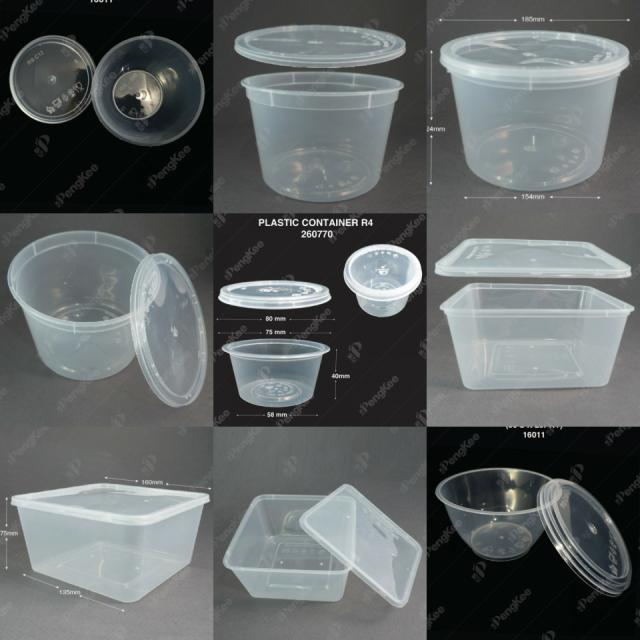Single-Use-Plastic: (440, 30, 629, 191), (11, 484, 210, 602), (8, 231, 160, 380), (241, 71, 404, 202), (440, 282, 634, 390), (300, 484, 422, 607), (224, 495, 356, 601), (432, 466, 565, 559), (92, 36, 204, 146), (536, 476, 634, 601), (130, 252, 208, 407), (435, 239, 631, 278), (10, 35, 95, 124), (235, 25, 406, 68), (222, 339, 330, 407), (344, 244, 421, 318), (219, 280, 331, 309)
